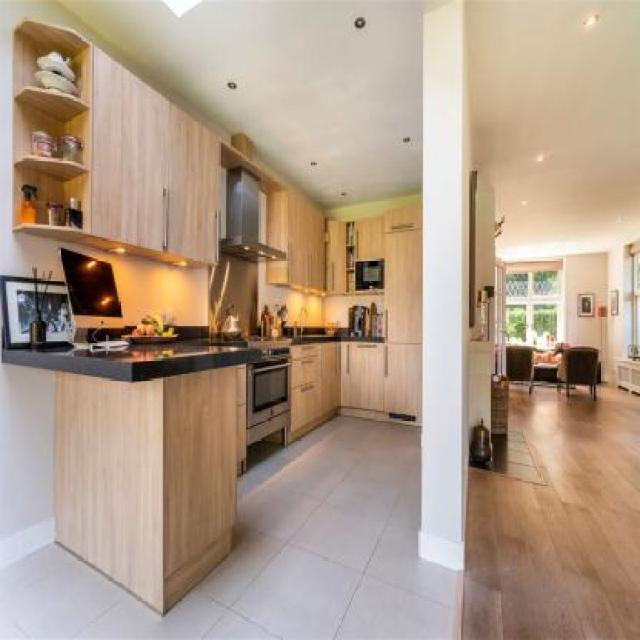floor: (0, 384, 640, 640)
